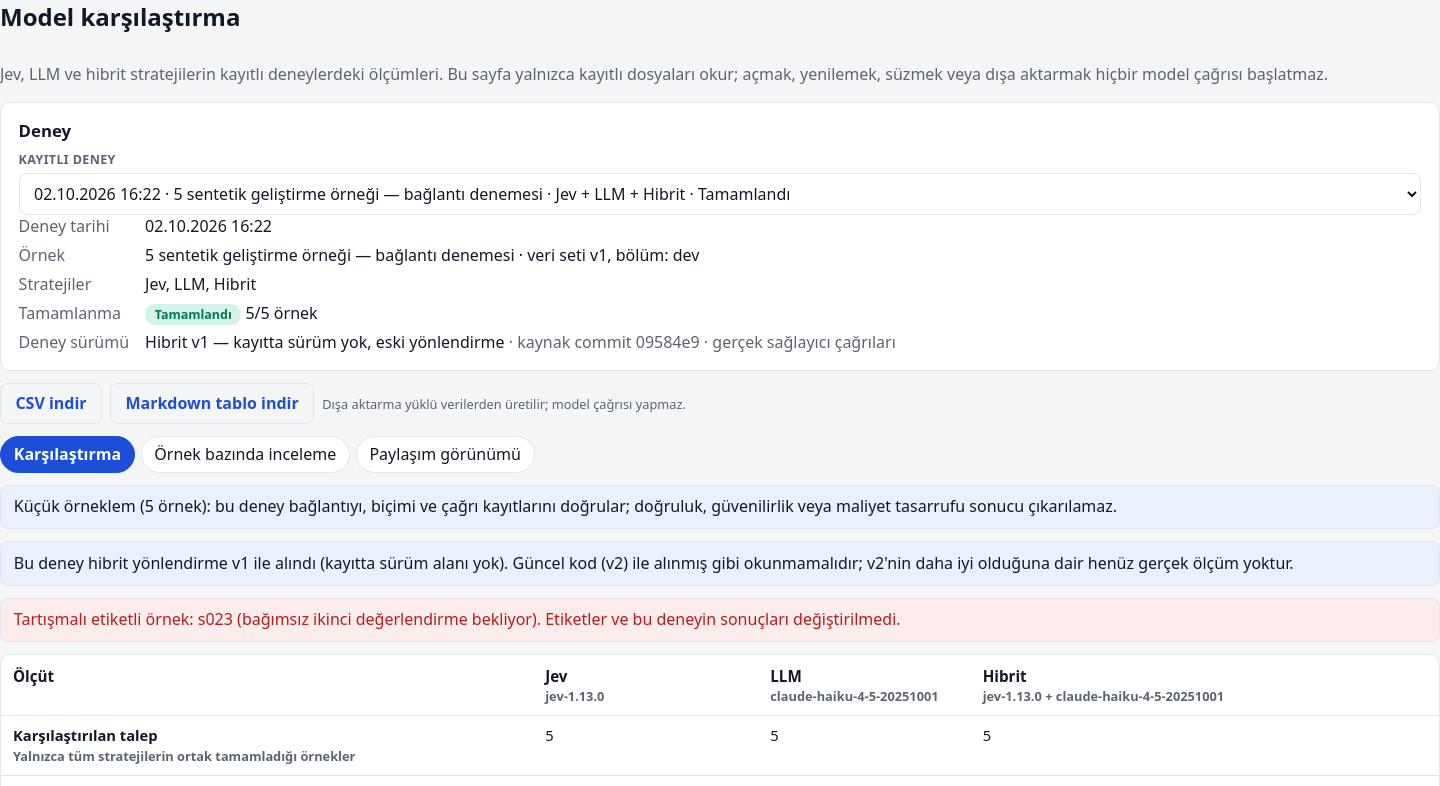
Scenario: örnek bazında inceleme › örnek ayrıntısı yüklenemezse hata gösterir ve kapatılabilir
The image size is (1440, 786).
What coordinates should you click on to do the following:
click the tab "Örnek bazında inceleme"
I would click on:
 (245, 455)
Its box is [140,436,350,473].
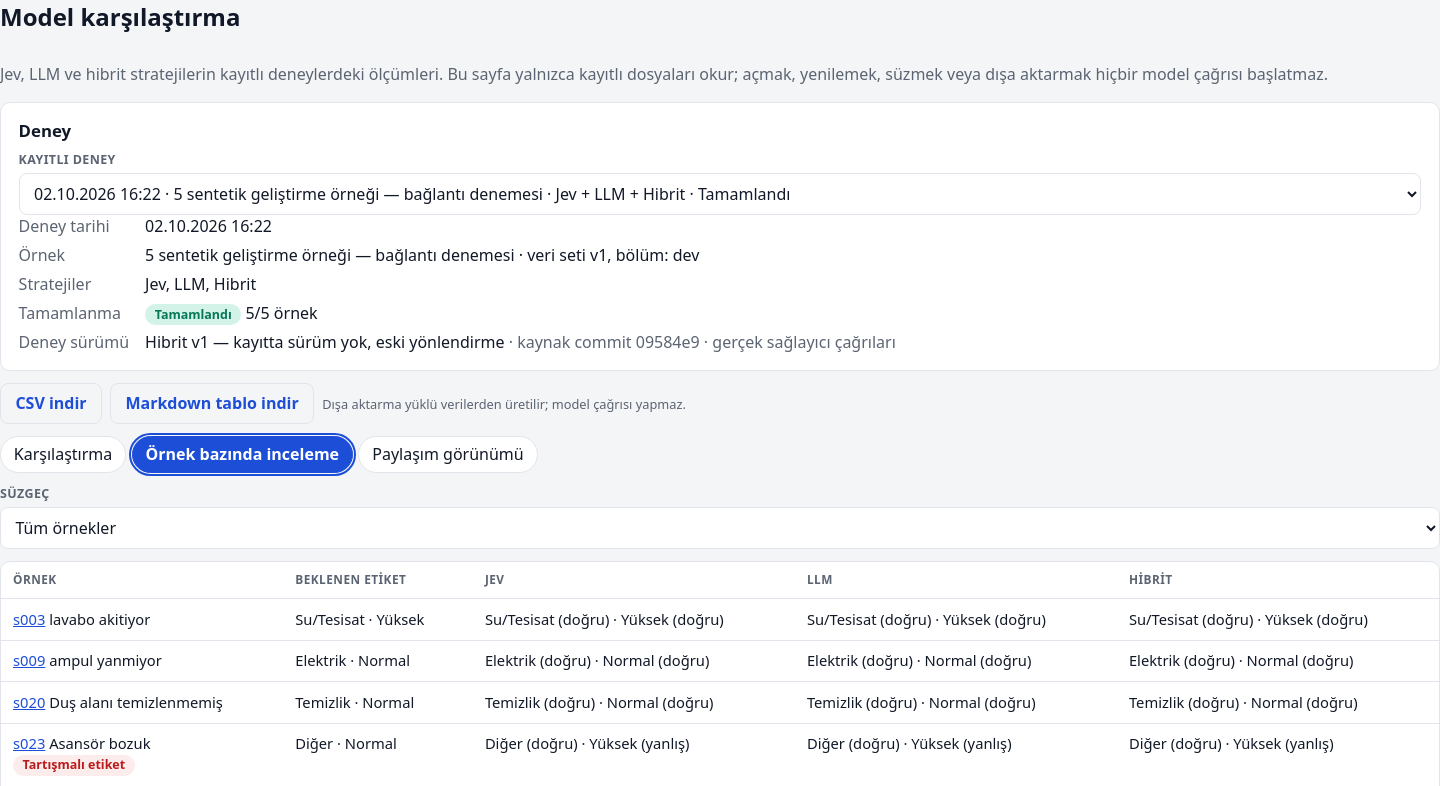
What coordinates should you click on to do the following:
click the button named "s003 örneğini incele"
I would click on:
 (29, 619)
Its box is [13,609,45,630].
(page scrolled)
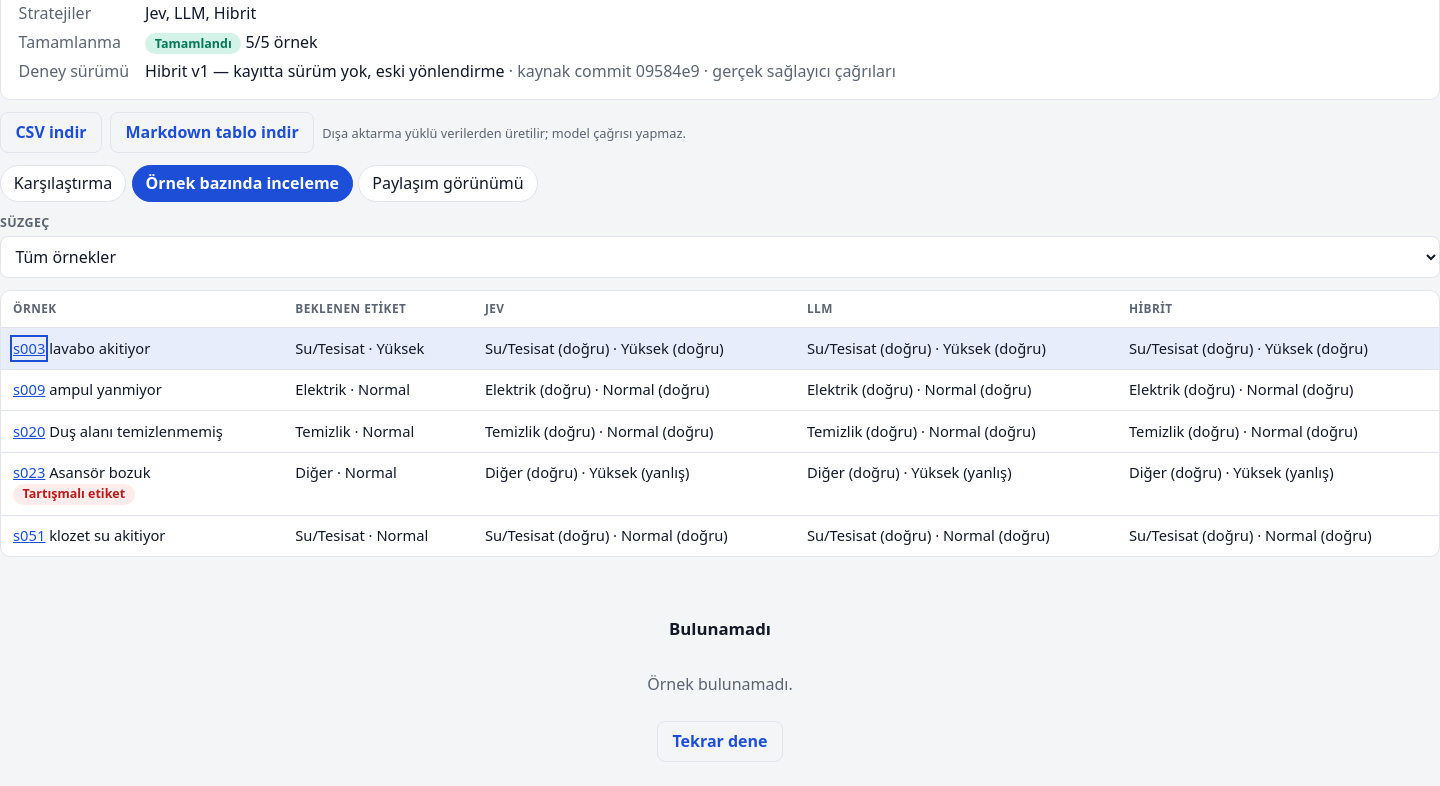
Check: the text "Örnek bulunamadı." is shown, box [647,674,793,697]
